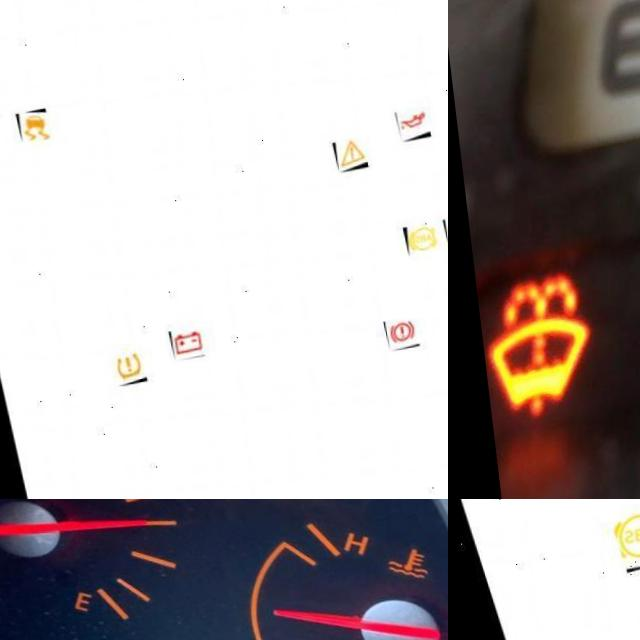High Engine Coolant Temperature: (374, 554, 422, 595)
Washer Fluid: (472, 277, 589, 414)
